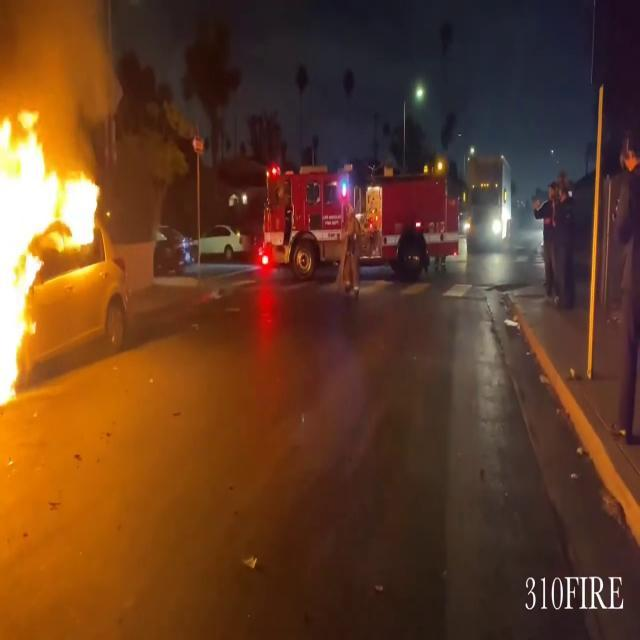Fire: (0, 101, 110, 415)
Smoke: (0, 0, 119, 149)
